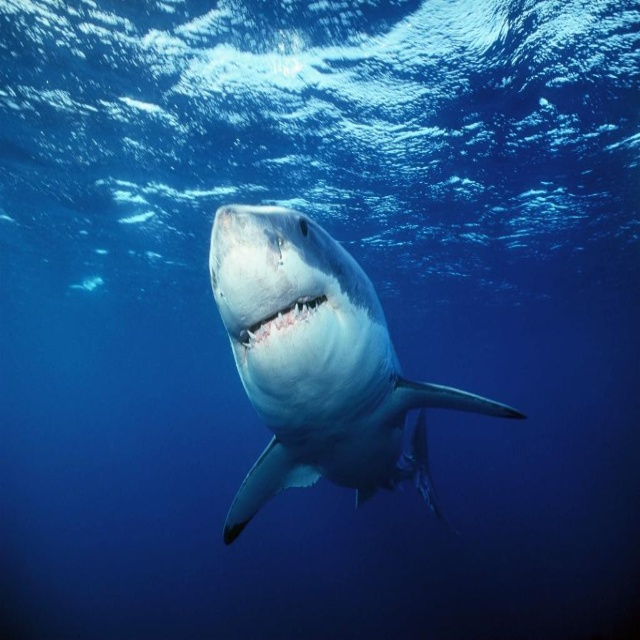Shark: (208, 207, 527, 546)
